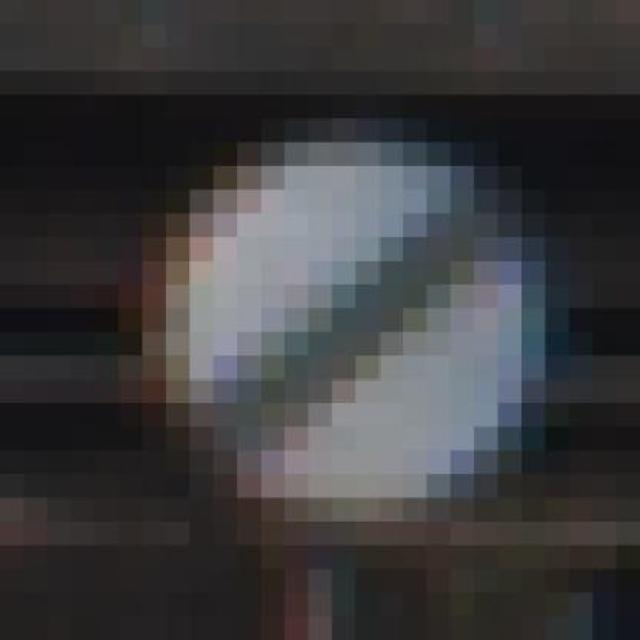End of all speed and passing limits: (166, 72, 545, 546)
